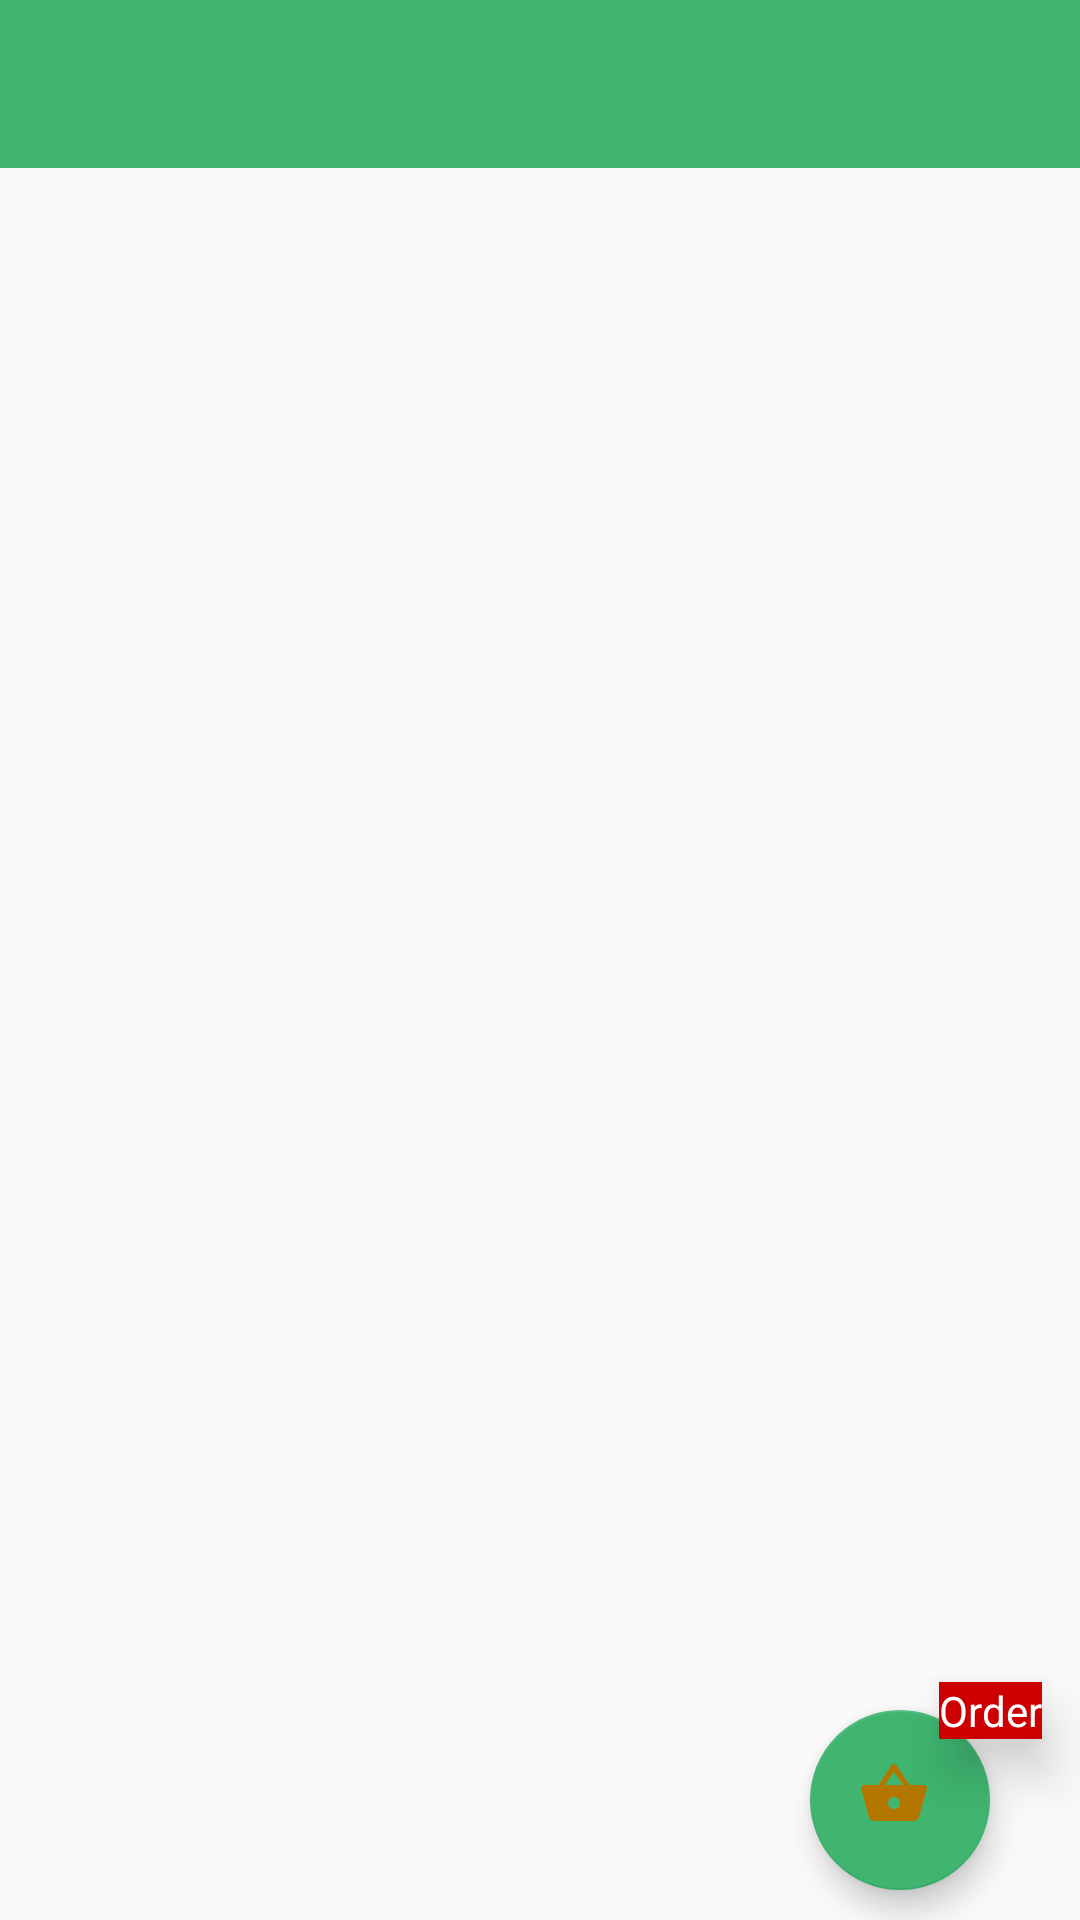

Named icons in this screenshot (1080x1920) and their bounding boxes, rect(x1, y1, x2, y2):
cart: rect(810, 1710, 990, 1890)
